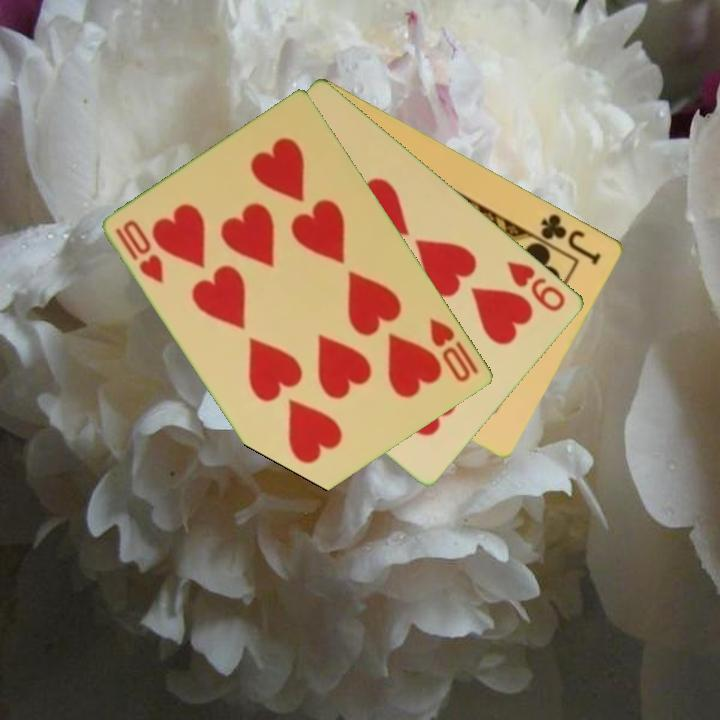10h: (426, 314, 483, 386), (112, 216, 167, 287)
9h: (504, 257, 569, 314)
Jc: (537, 210, 605, 268)
